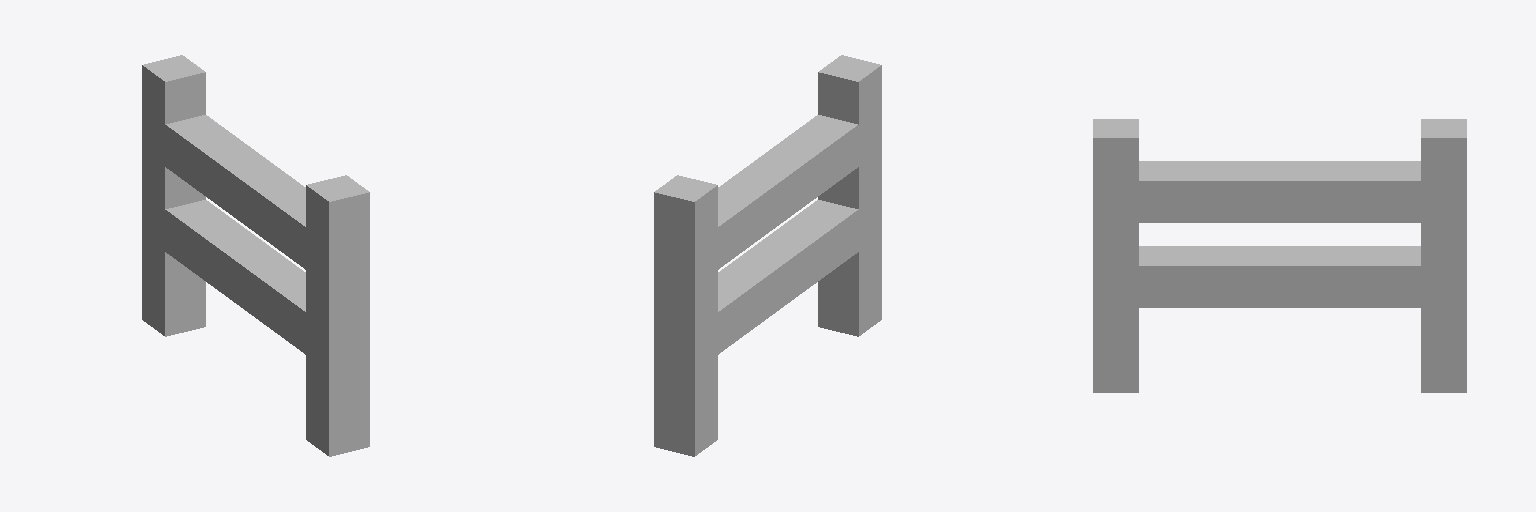
The model's file is cerca.obj.
3 renders of one model, left to right at view 1: azimuth 30°, elevation 25°; view 2: azimuth 150°, elevation 25°; view 3: azimuth 270°, elevation 25°, orthographic.
Visible parts, largest first — view 1: cerca; view 2: cerca; view 3: cerca.
Boxes of the visible parts, x1=… form: cerca: x1=142, y1=55, x2=369, y2=456; cerca: x1=654, y1=55, x2=881, y2=456; cerca: x1=1093, y1=119, x2=1466, y2=392.
Bounding box in the file's own units: 1 × 6 × 8.